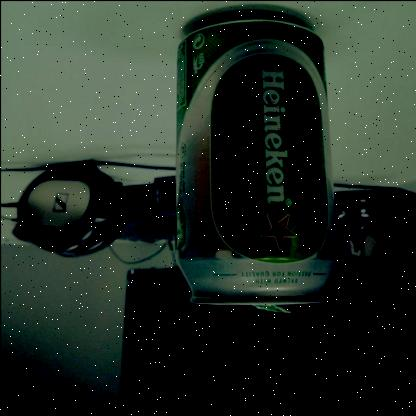Can: (172, 7, 336, 304)
